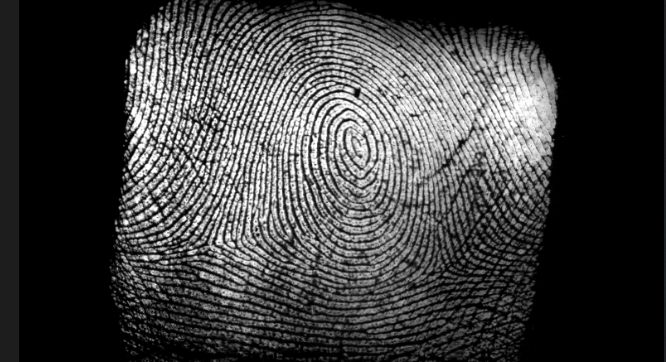deltas: (417, 245, 471, 289), (181, 217, 230, 264)
nucleo: (336, 114, 379, 168)
